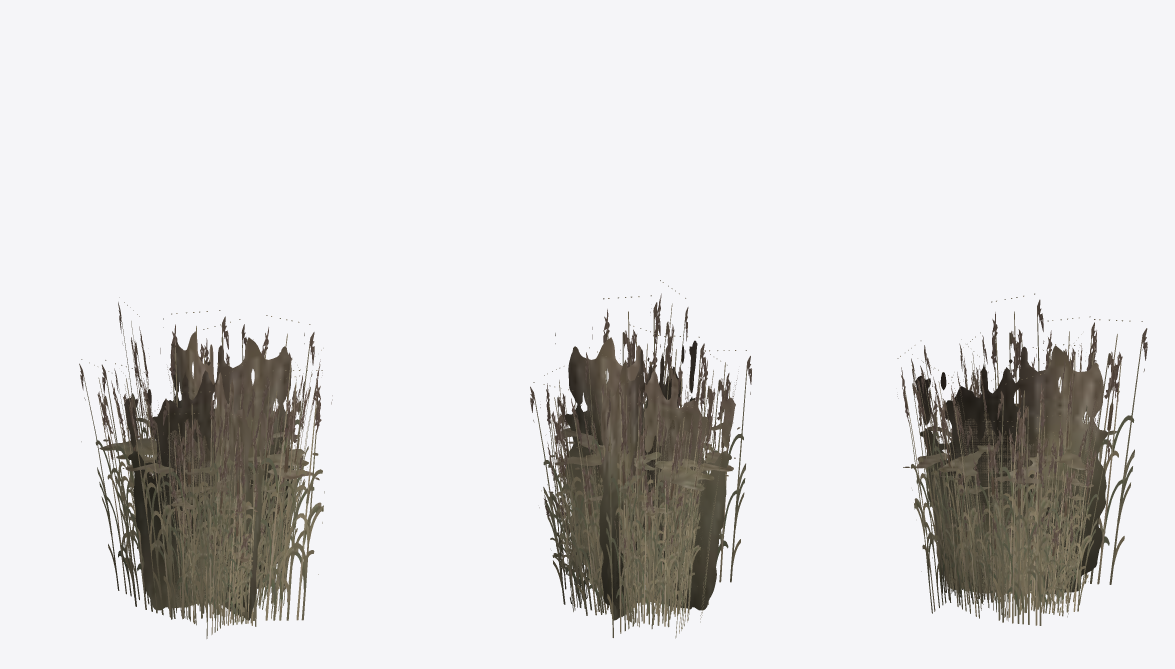
Rendered from plant-reeds.glb.
3 renders of one model, left to right at view 1: azimuth 30°, elevation 25°; view 2: azimuth 150°, elevation 25°; view 3: azimuth 270°, elevation 25°, orthographic. The views are drawn at different scales.
Parts seen in each view (by area): view 1: lod0-leaves-0, impostor-0, lod0-leaves-1, impostor-1, lod0-leaves-2; view 2: lod0-leaves-0, impostor-0, lod0-leaves-1, impostor-1, lod0-leaves-2; view 3: lod0-leaves-0, impostor-0, lod0-leaves-1, lod0-leaves-2, impostor-1.
Boxes of the visible parts, bbox=[...] form: lod0-leaves-0: bbox=[79, 297, 332, 638]; impostor-0: bbox=[81, 318, 319, 620]; lod0-leaves-1: bbox=[121, 396, 302, 626]; impostor-1: bbox=[122, 419, 285, 616]; lod0-leaves-2: bbox=[174, 494, 277, 624]; lod0-leaves-0: bbox=[530, 280, 751, 638]; impostor-0: bbox=[550, 333, 740, 620]; lod0-leaves-1: bbox=[545, 387, 733, 627]; impostor-1: bbox=[548, 378, 728, 616]; lod0-leaves-2: bbox=[539, 482, 694, 627]; lod0-leaves-0: bbox=[897, 293, 1147, 625]; impostor-0: bbox=[903, 345, 1118, 593]; lod0-leaves-1: bbox=[934, 365, 1110, 621]; lod0-leaves-2: bbox=[931, 486, 1079, 617]; impostor-1: bbox=[941, 404, 1093, 593].
Size of what is drawn, in the model's own units: 2.81 by 5.63 by 2.81.
5 materials, 4 textured.
